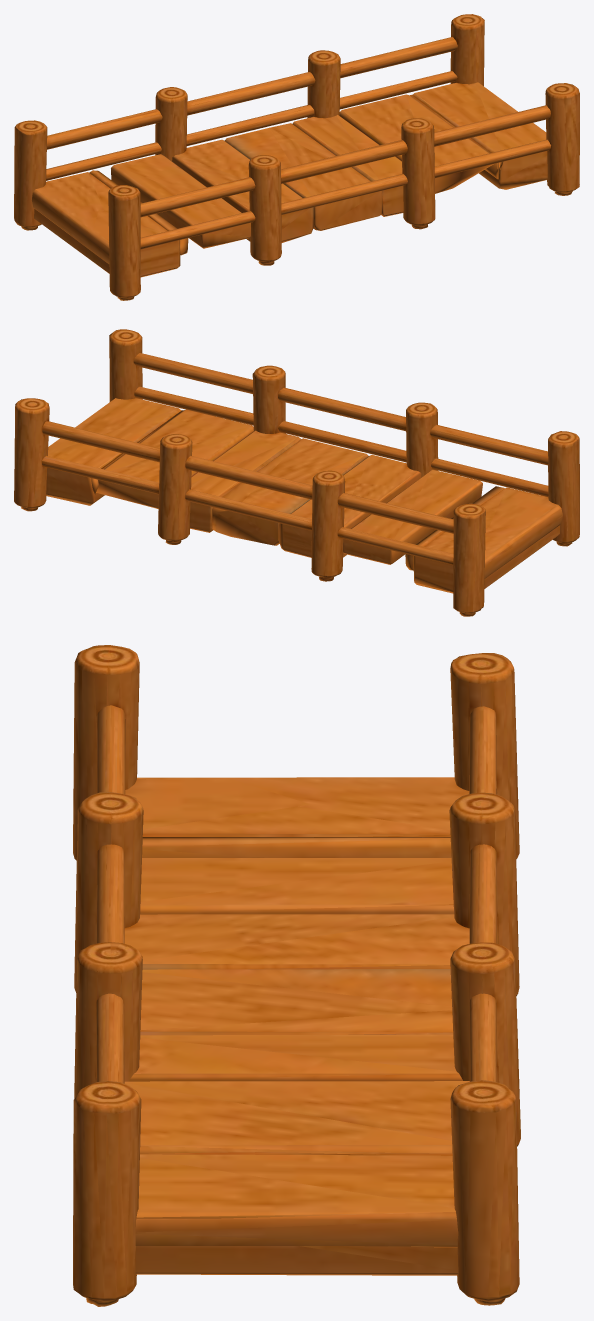
Rendered from bridge.glb.
3 views of the same model, one above another, from view 1: azimuth 30°, elevation 25°; view 2: azimuth 150°, elevation 25°; view 3: azimuth 270°, elevation 25° (orthographic). The views are drawn at different scales.
Size of the model in its own units: 1 by 0.2236 by 0.4187.
1 material, 1 textured.
